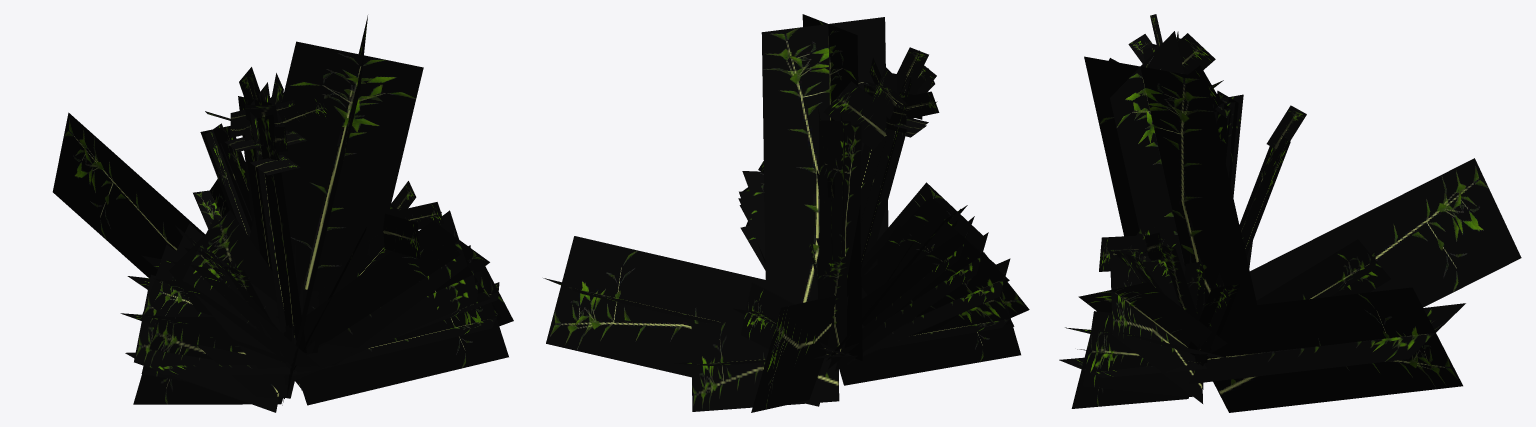
File: butterfly_fall_winter.glb
3 views of the same model, side by side, from view 1: azimuth 30°, elevation 25°; view 2: azimuth 150°, elevation 25°; view 3: azimuth 270°, elevation 25° (orthographic). The views are drawn at different scales.
Parts seen in each view (by area): view 1: 2_Leaves; view 2: 2_Leaves; view 3: 2_Leaves.
Part boxes in pixels (x1,y1,x2,y2): 2_Leaves: (52, 15, 513, 412); 2_Leaves: (543, 14, 1029, 412); 2_Leaves: (1059, 14, 1521, 412).
Bounding box in the file's own units: 43.74 × 40.79 × 45.58.
1 material, 1 textured.
